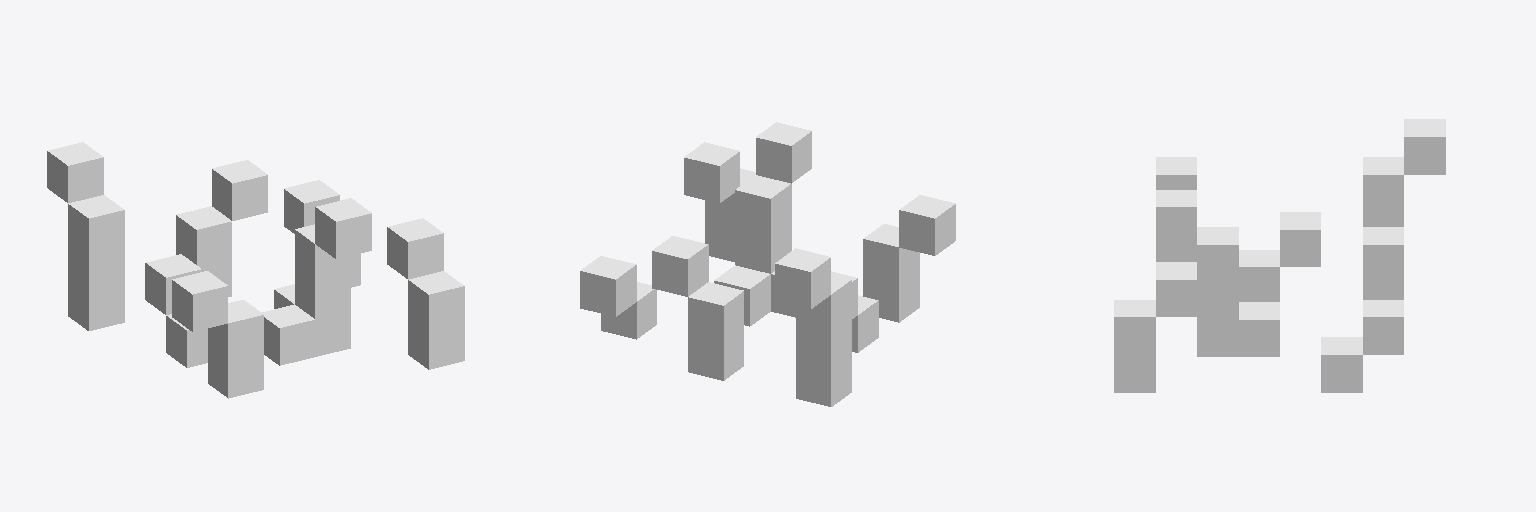
Rendered from GrassPatch.obj.
3 views of the same model, side by side, from view 1: azimuth 30°, elevation 25°; view 2: azimuth 150°, elevation 25°; view 3: azimuth 270°, elevation 25° (orthographic).
Parts seen in each view (by area): view 1: GrassPatch; view 2: GrassPatch; view 3: GrassPatch.
Part boxes in pixels (x1,y1,x2,y2): GrassPatch: (47, 142, 464, 398); GrassPatch: (580, 122, 955, 406); GrassPatch: (1114, 119, 1445, 392).
Size of the model in its own units: 7 by 4 by 8.